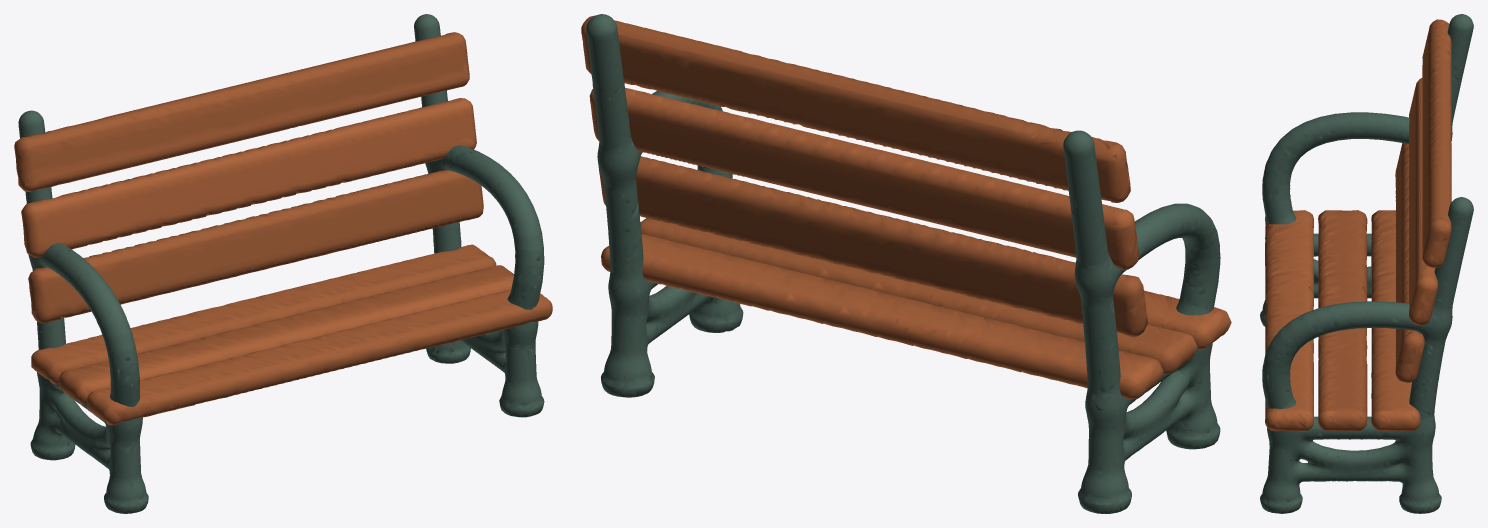
Rendered from banco.glb.
3 views of the same model, side by side, from view 1: azimuth 30°, elevation 25°; view 2: azimuth 150°, elevation 25°; view 3: azimuth 270°, elevation 25° (orthographic). The views are drawn at different scales.
Visible parts, largest first — view 1: assento_madeira, estrutura; view 2: assento_madeira, estrutura; view 3: assento_madeira, estrutura.
Boxes of the visible parts, left/top/right/bottom form: assento_madeira: left=14, top=32, right=552, bottom=425; estrutura: left=18, top=14, right=544, bottom=513; assento_madeira: left=581, top=15, right=1231, bottom=399; estrutura: left=586, top=14, right=1220, bottom=513; assento_madeira: left=1265, top=19, right=1451, bottom=431; estrutura: left=1260, top=14, right=1473, bottom=513.
Bounding box in the file's own units: 1.2 × 0.8302 × 0.523.
